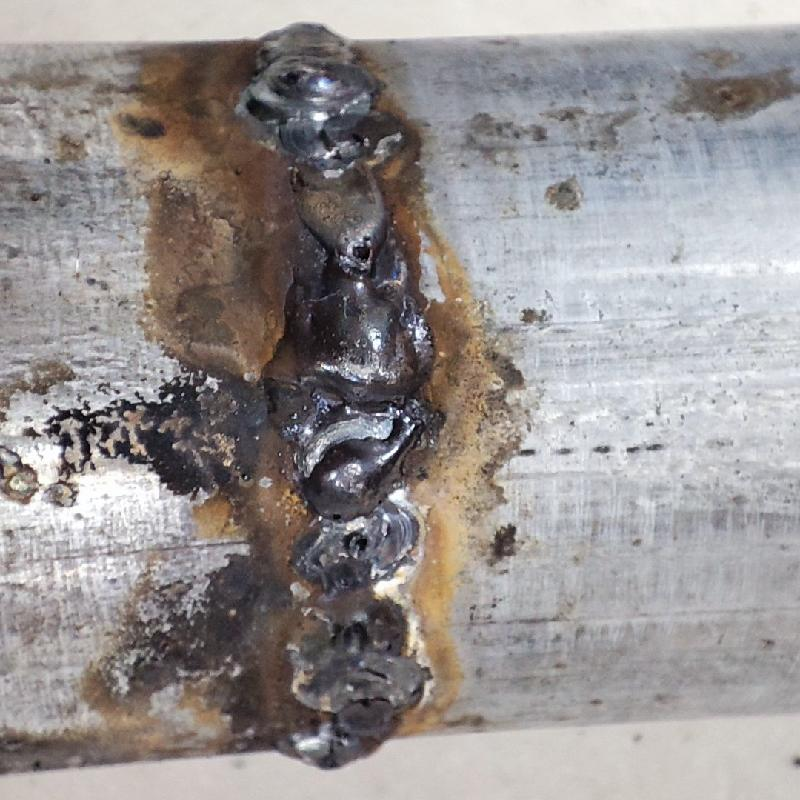Not_fully_soldered: (284, 530, 432, 709), (277, 122, 418, 276)
Surface_pores: (336, 226, 381, 272), (321, 500, 357, 528)
Weld: (261, 279, 446, 527)
wrong_size: (243, 23, 377, 124)
